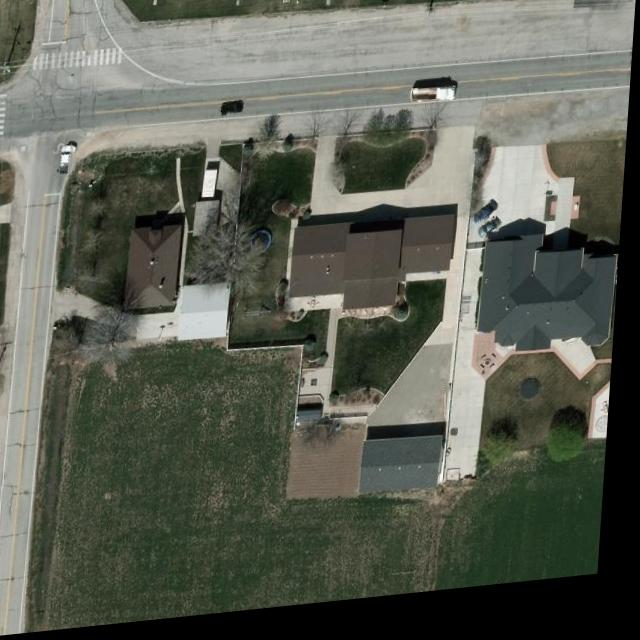vehicle: (56, 144, 82, 178), (412, 95, 461, 113), (477, 210, 503, 239), (480, 226, 506, 251), (219, 104, 249, 121)
